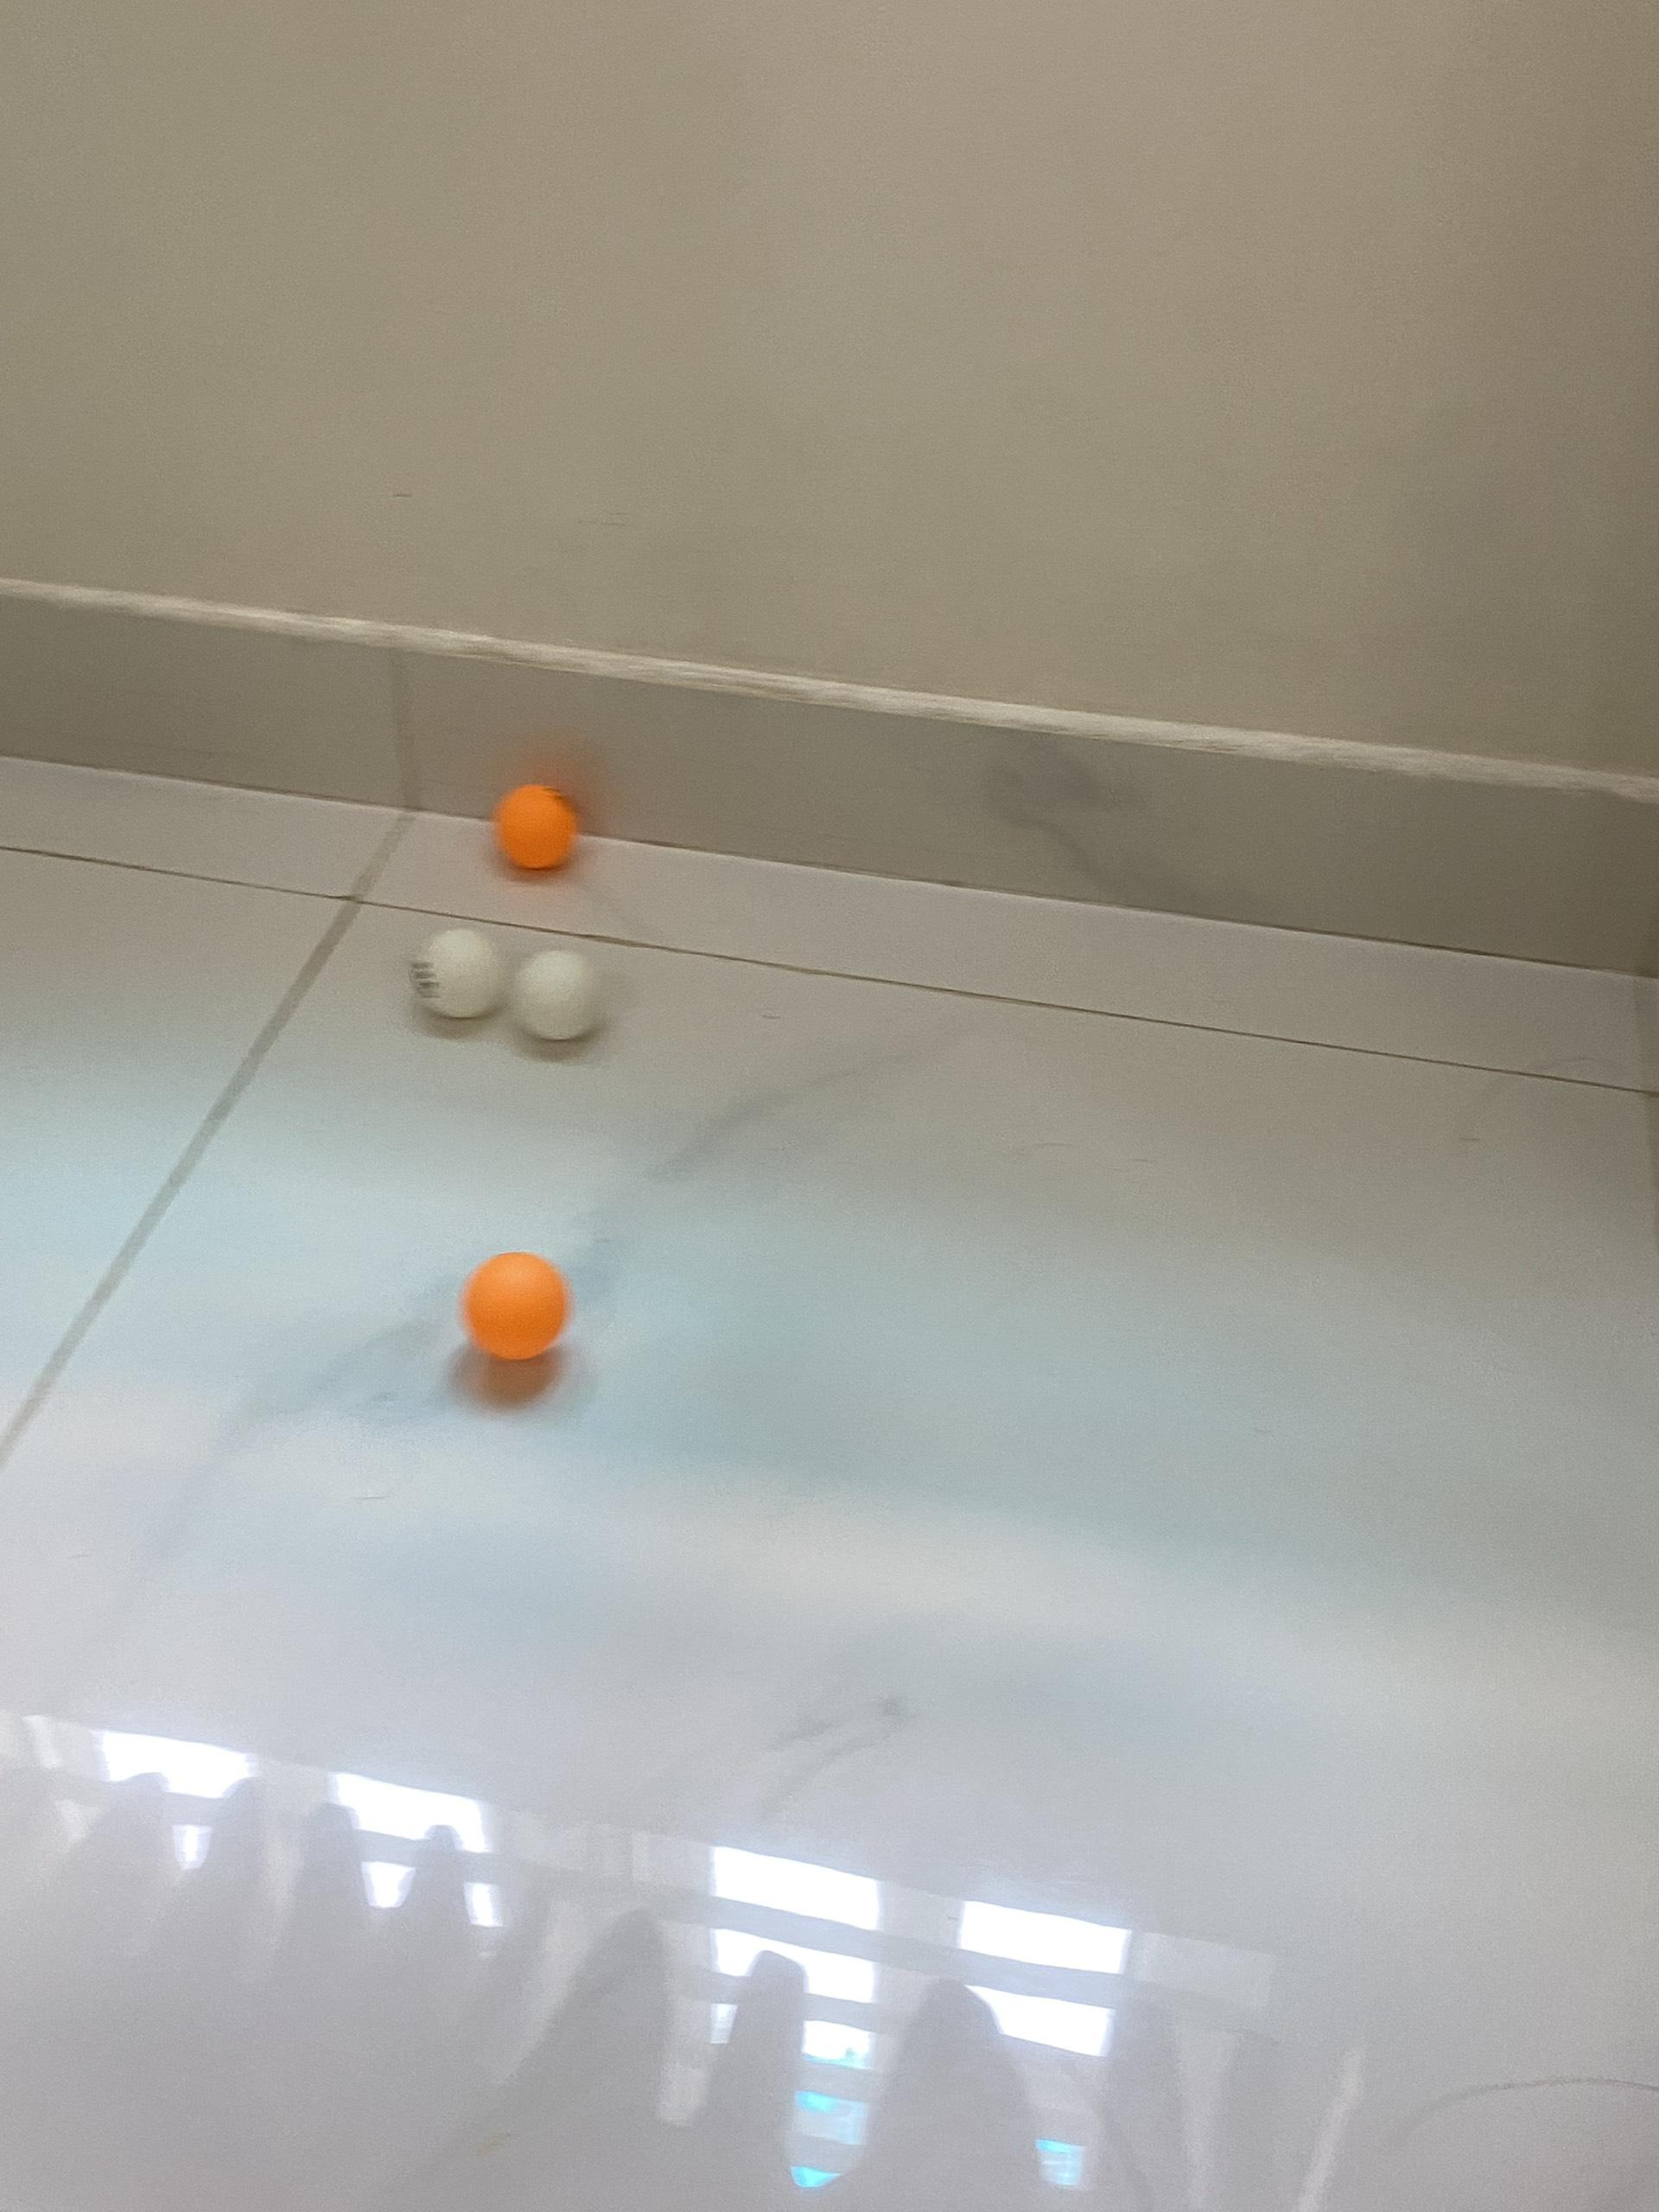oball: (467, 1247, 568, 1362), (498, 789, 586, 873)
